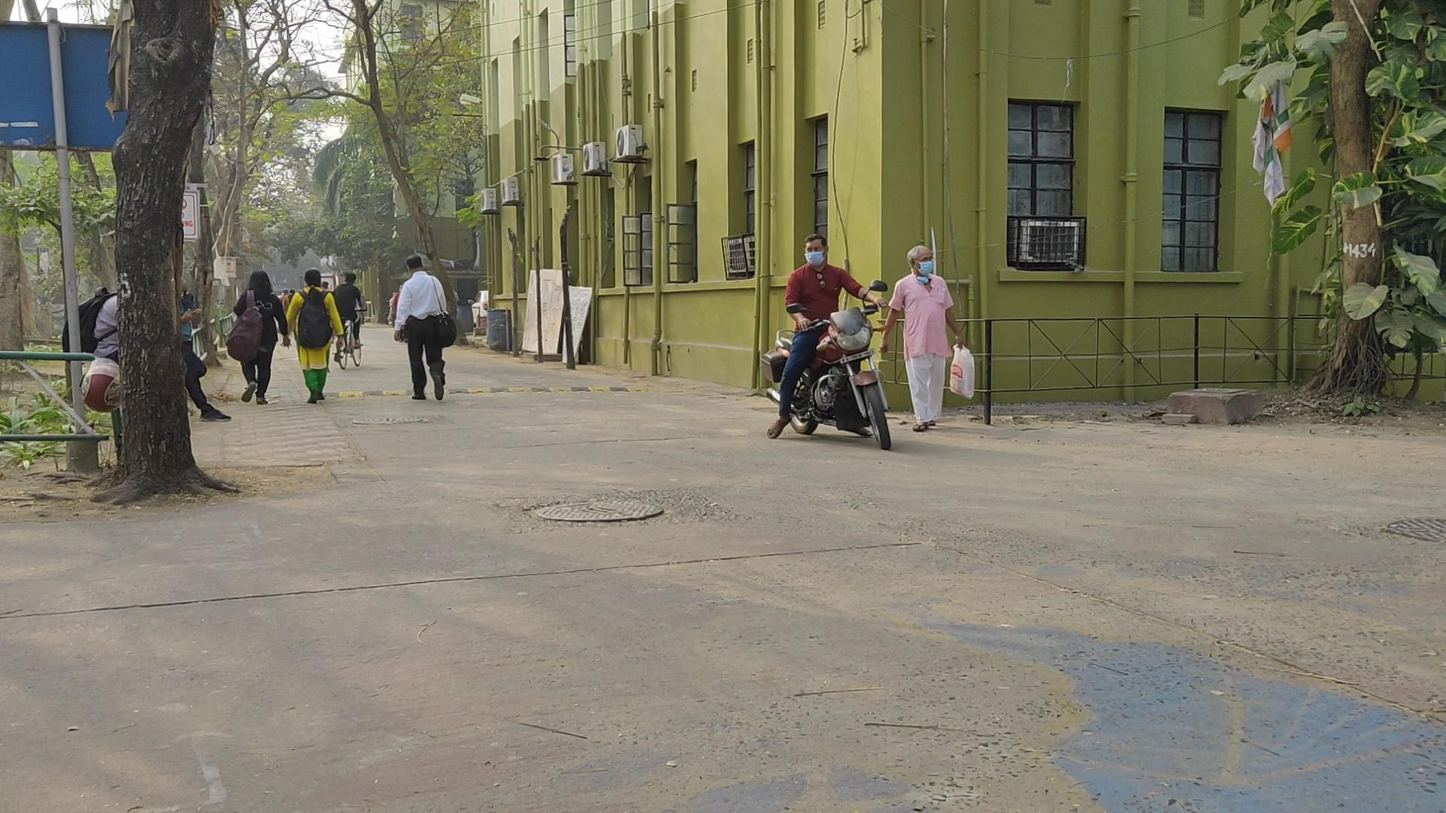bike: (760, 234, 892, 451), (330, 273, 368, 370)
